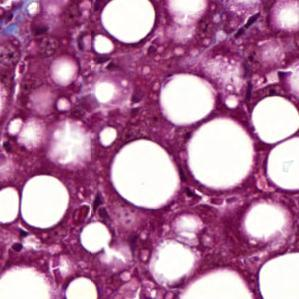steatosis: (185, 118, 259, 190), (111, 142, 182, 208), (22, 172, 71, 229)
